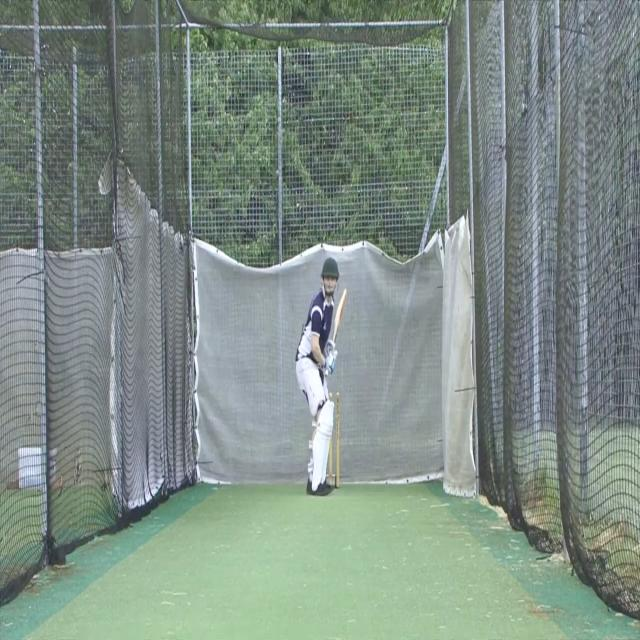batsman: (294, 255, 348, 498)
